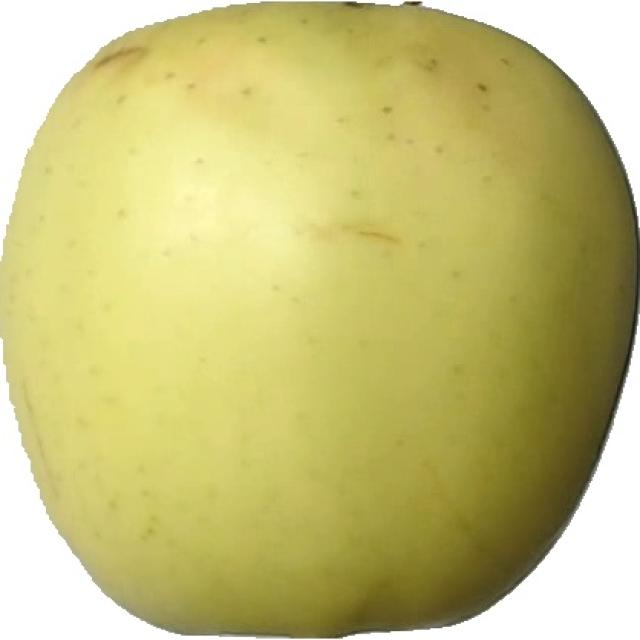Golden Elma: (0, 0, 640, 617)
